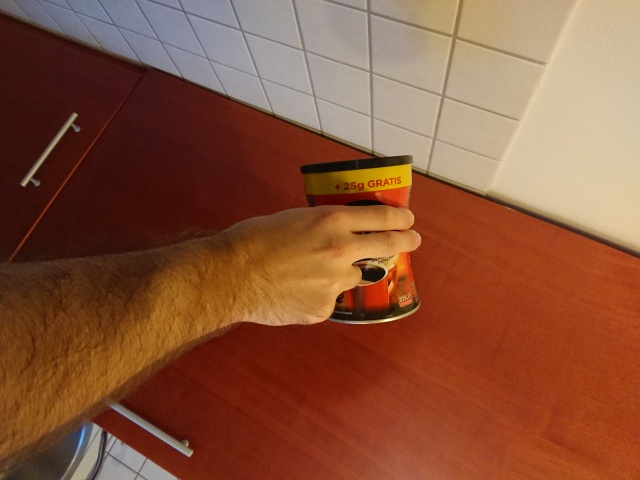Nescafe Classic 225g: (297, 152, 425, 328)
